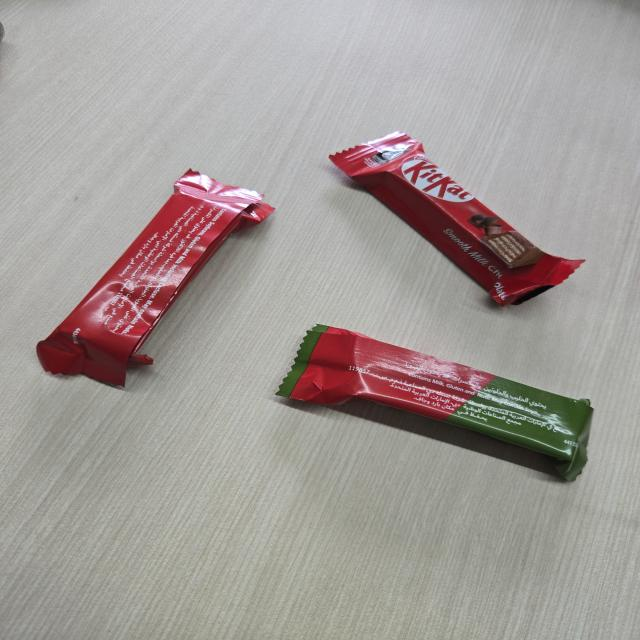chocolate-bar: (33, 164, 274, 390), (274, 319, 599, 485), (327, 130, 590, 316)
